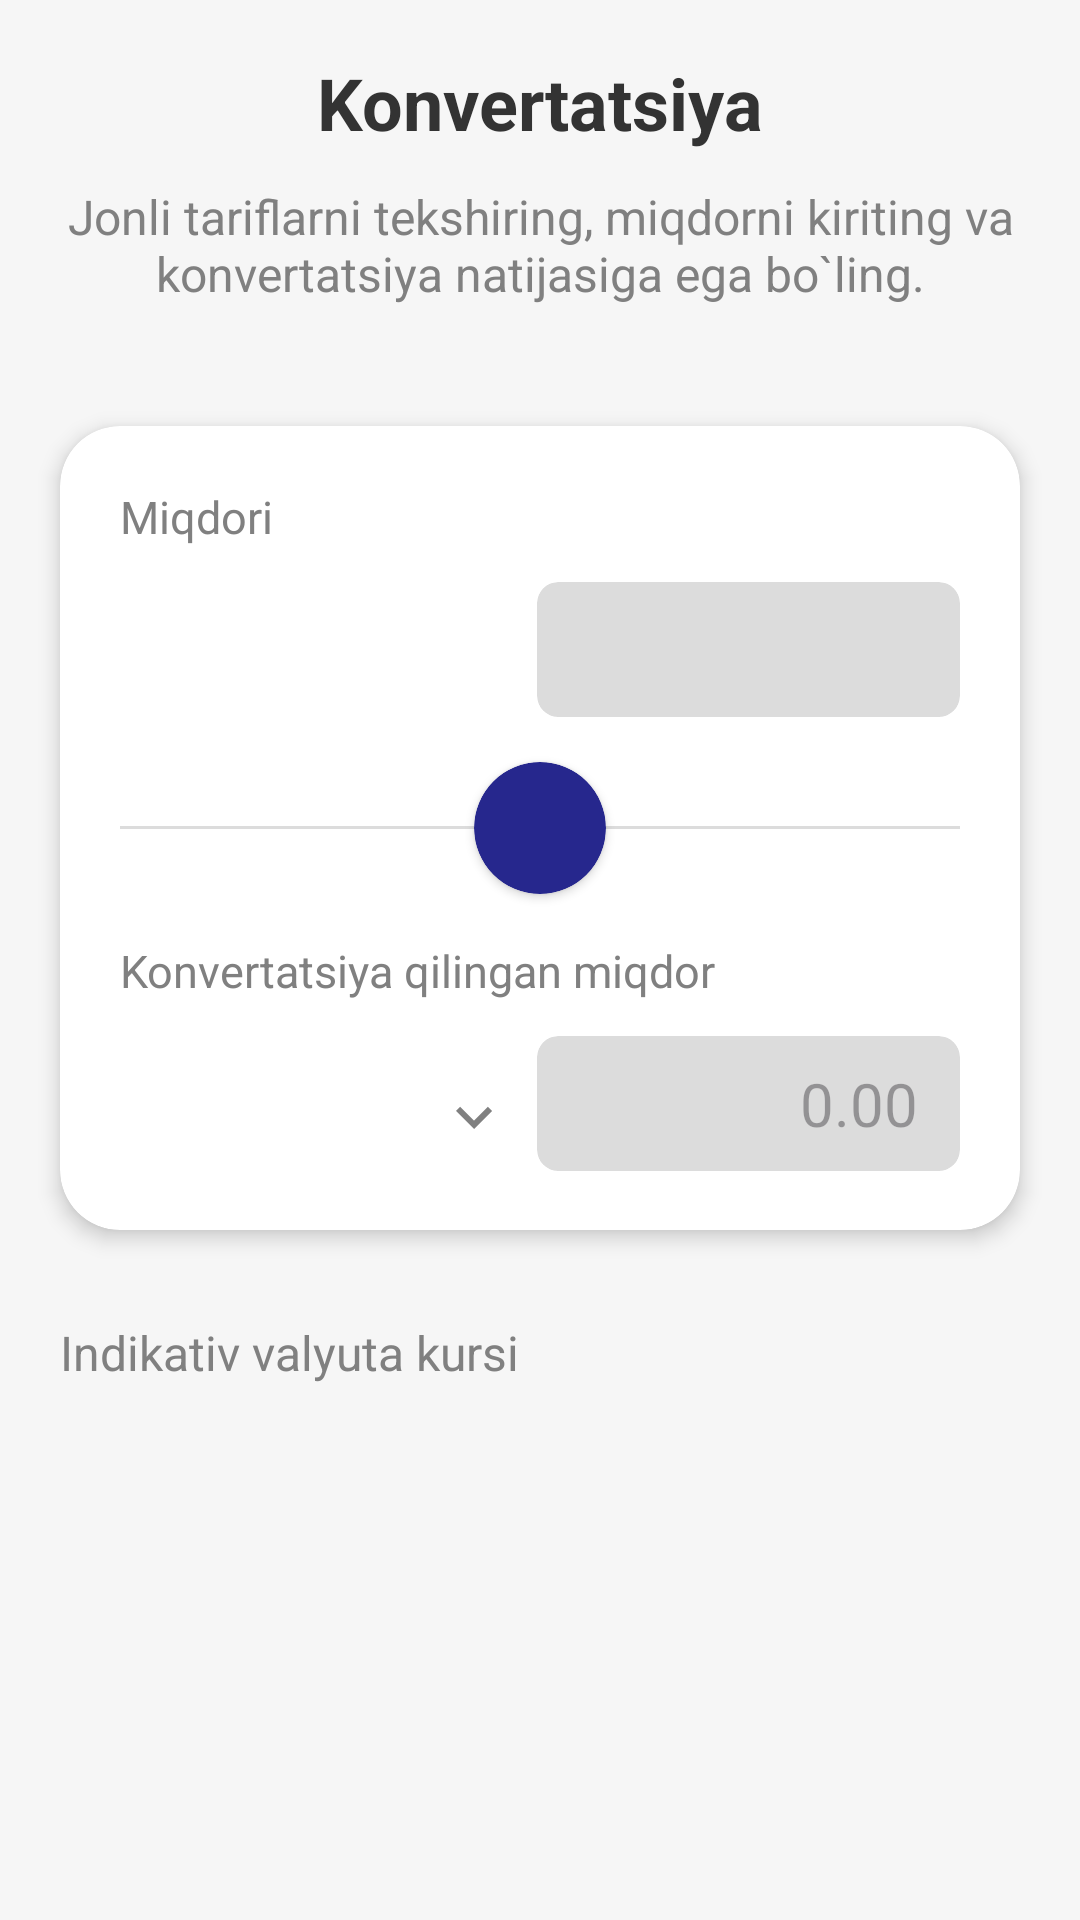

Where icons sit on this 1080 × 1920 app screen, as (x1, y1, x2, y2):
arrow down: (456, 1107, 492, 1129)
